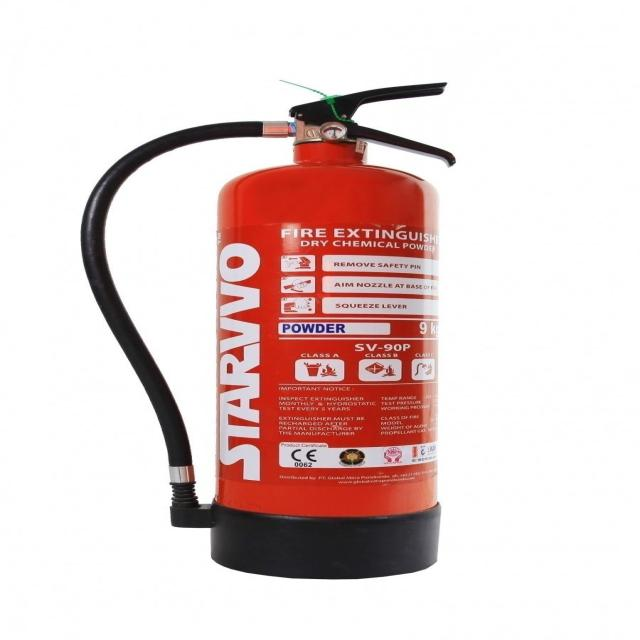fire_extinguisher: (66, 70, 470, 590)
